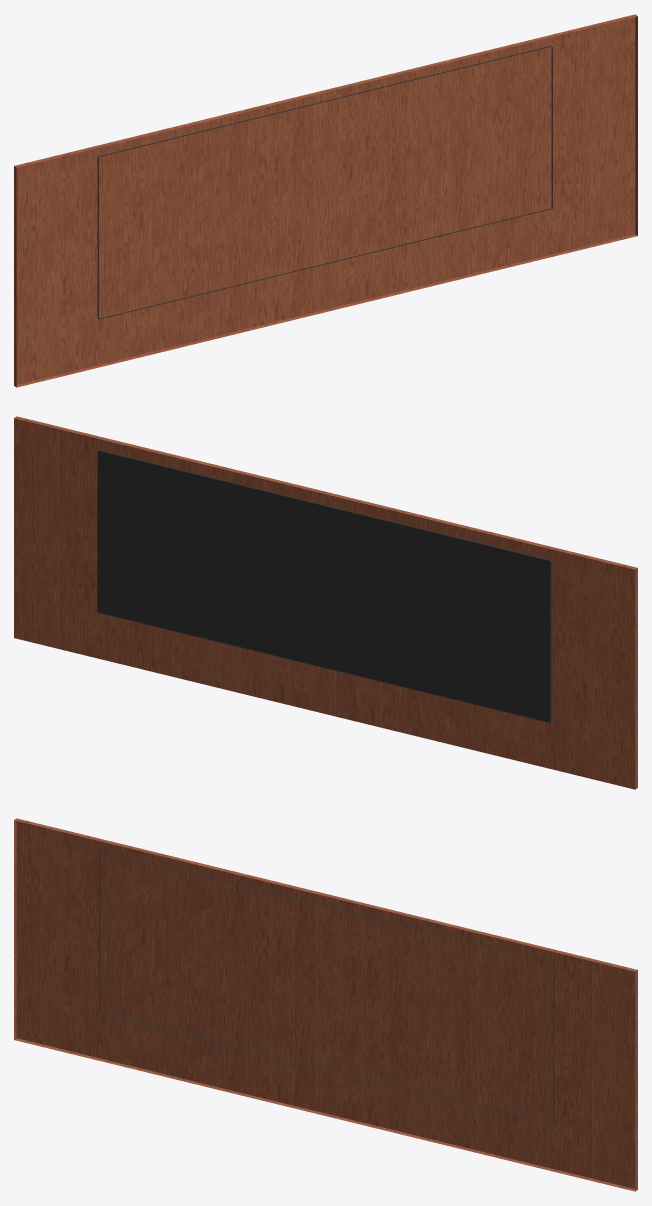
Rendered from screen.fbx.
3 views of the same model, one above another, from view 1: azimuth 30°, elevation 25°; view 2: azimuth 150°, elevation 25°; view 3: azimuth 330°, elevation 25° (orthographic).
Parts seen in each view (by area): view 1: screen; view 2: screen; view 3: screen.
Boxes of the visible parts, x1,y1,x2,y2 form: screen: (14,14,637,387); screen: (14,416,637,789); screen: (14,818,637,1191).
Bounding box in the file's own units: 1665 × 563 × 15.55.
Materials: 1 (1 with a texture image).
